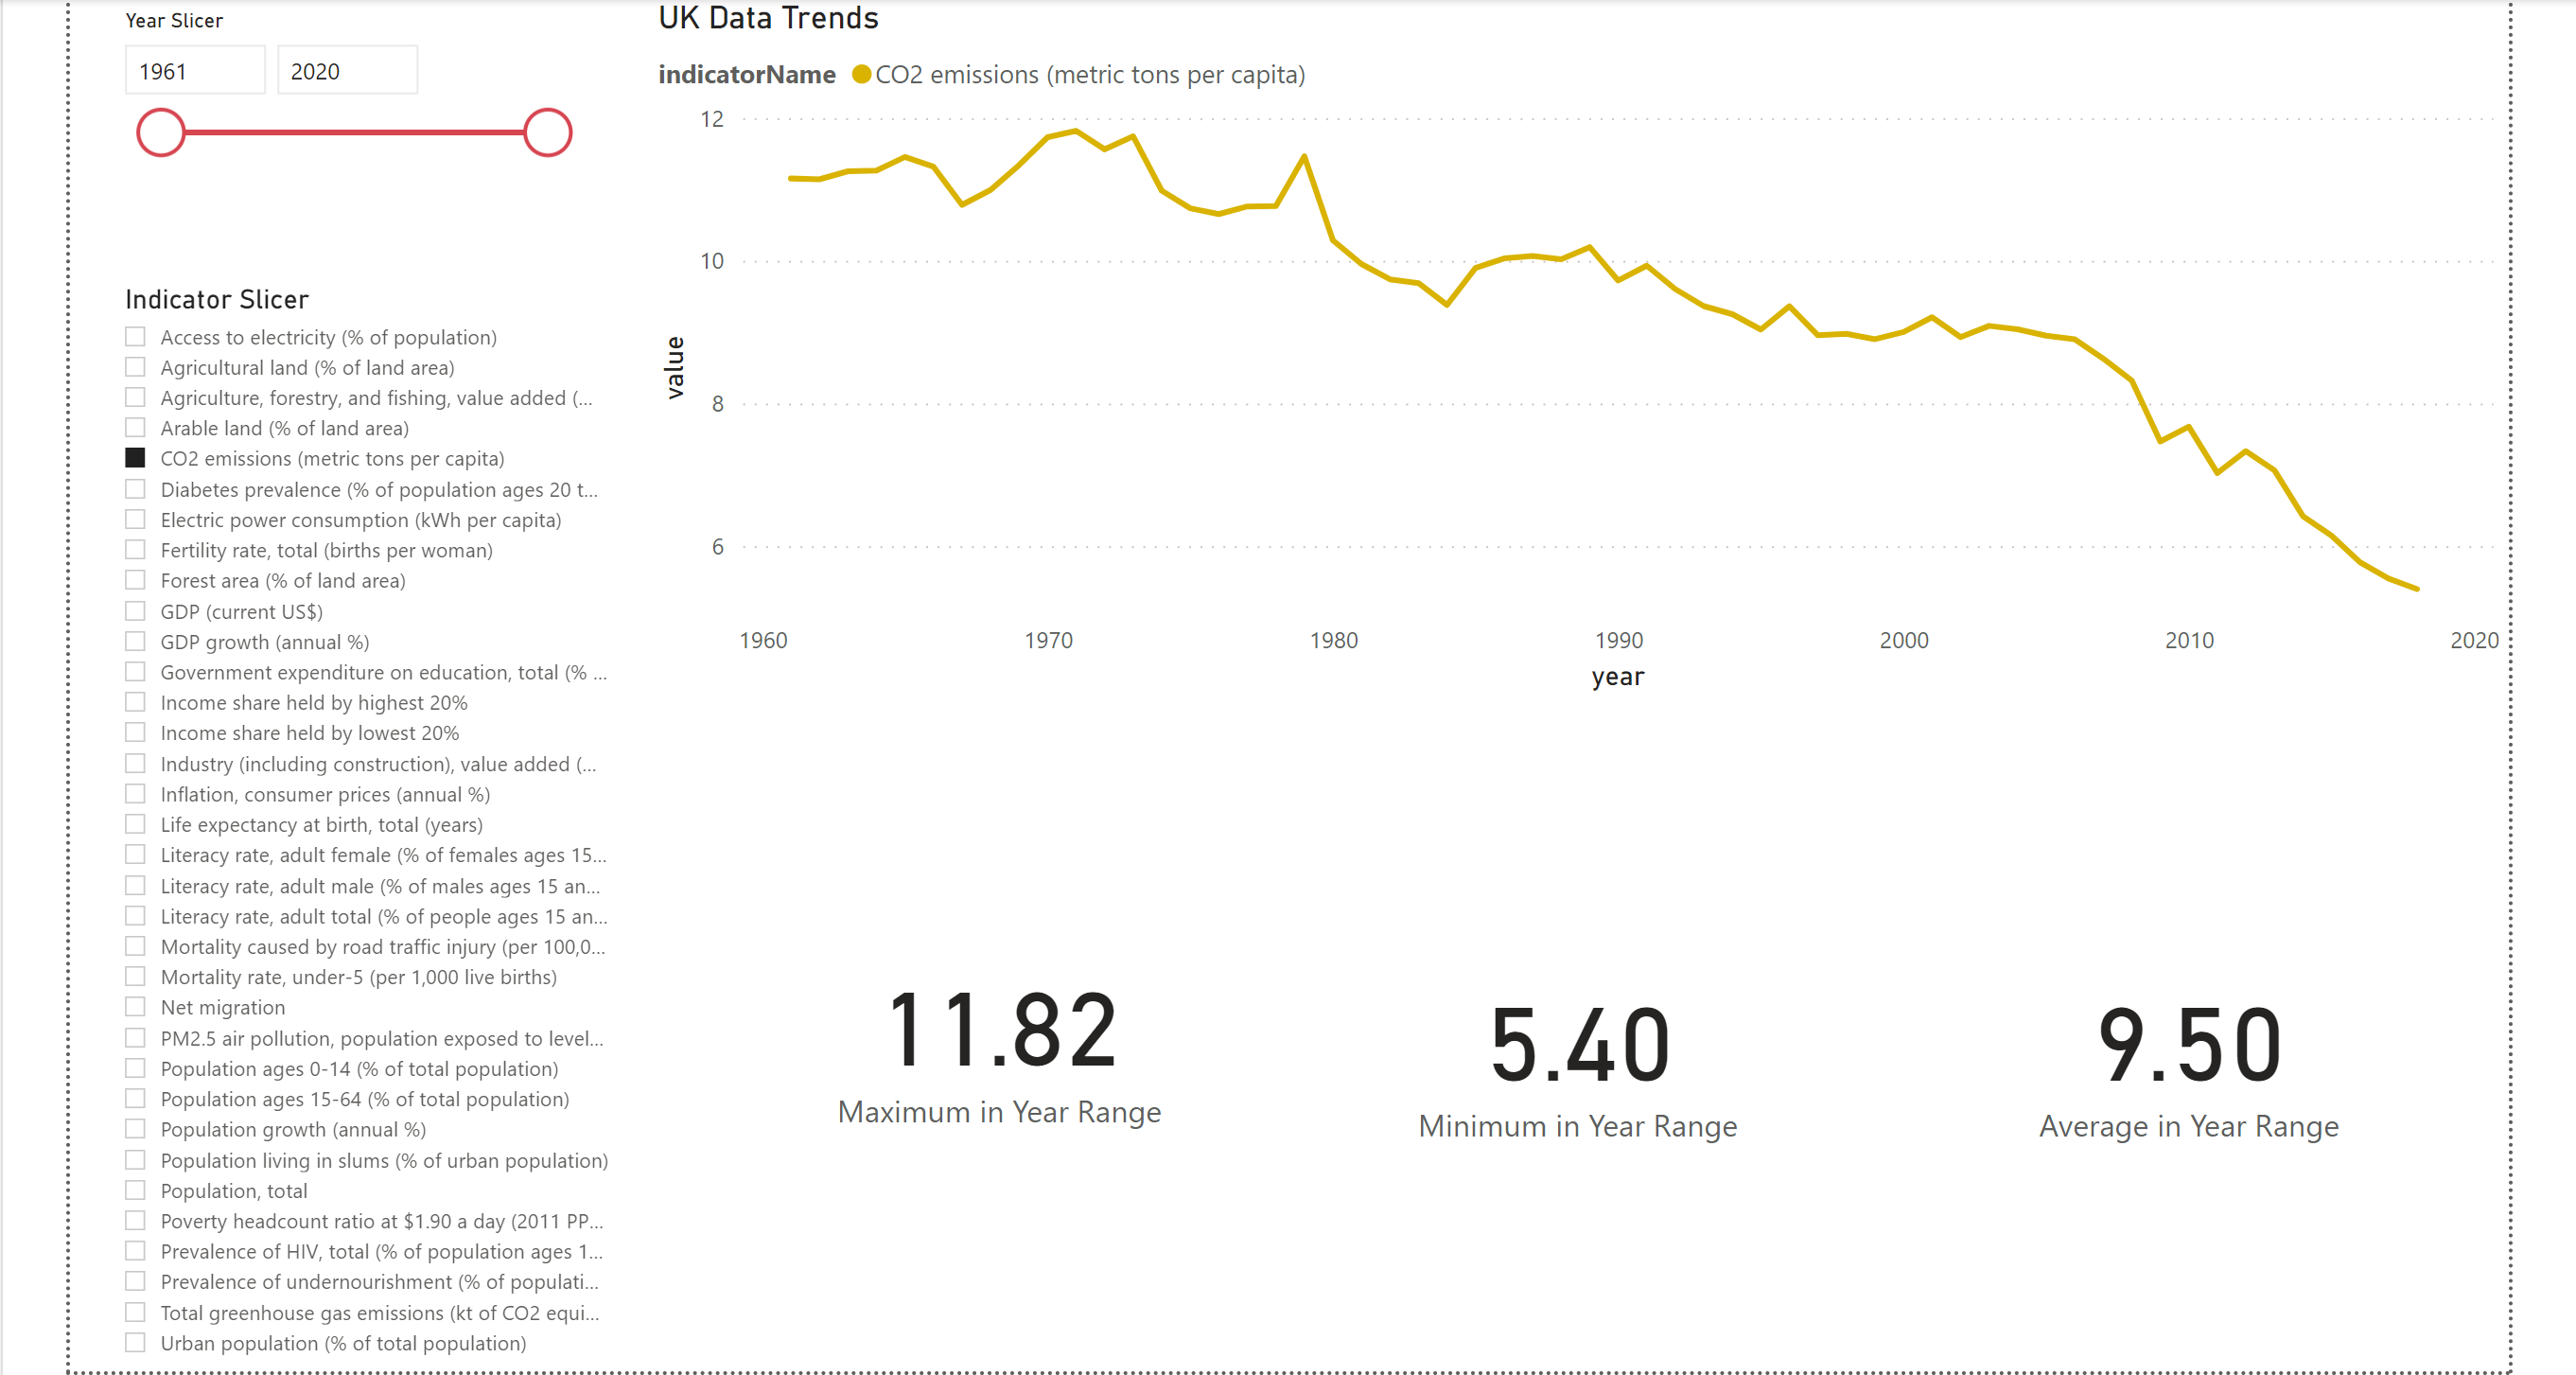

This screenshot's page, from the dashboard's own definition file:
{"tool":"powerbi","page":{"name":"UKTable","canvas":[1280,720],"ordinal":0},"visuals":[{"type":"slicer","fields":{"Values":["dimensiontabledate.dateYear"]},"box":[16,0,256,144],"z":0},{"type":"slicer","fields":{"Values":["dimensiontableindicatorcode.indicatorName"]},"box":[16,144,272,576],"z":1000},{"type":"lineChart","title":"UK Data Trends","fields":{"Category":["uktable.year"],"Y":["Sum(uktable.value)"],"Series":["uktable.indicatorName"]},"box":[304,0,976,368],"z":2000},{"type":"card","fields":{"Values":["Max(uktable.value)"]},"box":[304,368,368,352],"z":3000},{"type":"card","fields":{"Values":["Min(uktable.value)"]},"box":[640,384,304,336],"z":4000},{"type":"card","fields":{"Values":["Avg(uktable.value)"]},"box":[944,384,336,336],"z":5000}]}

Visuals, with their boxes on the page's 1280x720 design canvas (x1, y1, x2, y2). These are canvas units, not pixel positions in the 2576x1375 screenshot, which may show the page scaled, cropped or inside an application window:
slicer - dimensiontabledate.dateYear: BBox(16, 0, 272, 144)
slicer - dimensiontableindicatorcode.indicatorName: BBox(16, 144, 288, 720)
"UK Data Trends" lineChart: BBox(304, 0, 1280, 368)
card - Max(uktable.value): BBox(304, 368, 672, 720)
card - Min(uktable.value): BBox(640, 384, 944, 720)
card - Avg(uktable.value): BBox(944, 384, 1280, 720)
